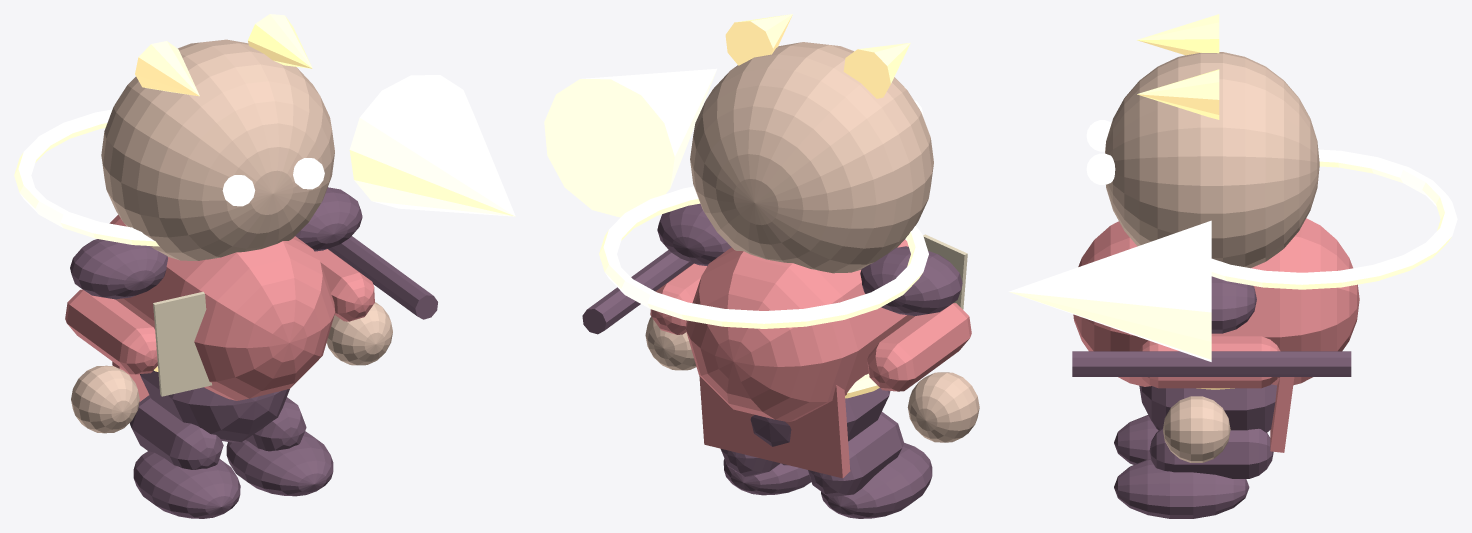
File: guardian-ember-sd-toon.glb
3 views of the same model, side by side, from view 1: azimuth 30°, elevation 25°; view 2: azimuth 150°, elevation 25°; view 3: azimuth 270°, elevation 25° (orthographic). The views are drawn at different scales.
Visible parts, largest first — view 1: head, body, signature, footL, armL, pelvis, footR, halo, shoulderL, talisman, legL, handL (+9 smaller); view 2: head, body, signature, halo, cloth, armL, footL, shoulderL, handL, legL, shoulderR, weapon (+8 smaller); view 3: head, signature, body, halo, weapon, footR, pelvis, handR, legR, armR, hornR, shoulderR (+5 smaller).
Part boxes in pixels (x1=…): head: x1=101, y1=39, x2=334, y2=260; body: x1=109, y1=215, x2=335, y2=400; signature: x1=349, y1=75, x2=515, y2=216; footL: x1=133, y1=451, x2=240, y2=518; armL: x1=65, y1=289, x2=157, y2=374; pelvis: x1=140, y1=370, x2=289, y2=442; footR: x1=226, y1=431, x2=333, y2=496; halo: x1=14, y1=109, x2=159, y2=246; shoulderL: x1=70, y1=239, x2=167, y2=299; talisman: x1=153, y1=291, x2=211, y2=396; legL: x1=130, y1=395, x2=223, y2=469; handL: x1=71, y1=365, x2=139, y2=433; head: x1=690, y1=42, x2=933, y2=273; body: x1=686, y1=239, x2=914, y2=421; signature: x1=544, y1=68, x2=716, y2=217; halo: x1=599, y1=186, x2=928, y2=328; cloth: x1=699, y1=376, x2=850, y2=478; armL: x1=867, y1=303, x2=971, y2=391; footL: x1=821, y1=443, x2=932, y2=518; shoulderL: x1=860, y1=246, x2=962, y2=315; handL: x1=907, y1=372, x2=979, y2=442; legL: x1=808, y1=412, x2=904, y2=497; shoulderR: x1=657, y1=203, x2=731, y2=265; weapon: x1=582, y1=250, x2=693, y2=334; head: x1=1105, y1=52, x2=1319, y2=268; signature: x1=1008, y1=220, x2=1211, y2=361; body: x1=1073, y1=218, x2=1359, y2=386; halo: x1=1211, y1=149, x2=1457, y2=289; weapon: x1=1072, y1=351, x2=1351, y2=376; footR: x1=1114, y1=459, x2=1249, y2=518; pelvis: x1=1139, y1=384, x2=1276, y2=432; handR: x1=1163, y1=396, x2=1230, y2=462; legR: x1=1149, y1=428, x2=1273, y2=478; armR: x1=1139, y1=336, x2=1280, y2=388; hornR: x1=1137, y1=69, x2=1219, y2=119; shoulderR: x1=1211, y1=276, x2=1256, y2=333.
Size of the model in its own units: 2.44 by 2.62 by 2.39.
